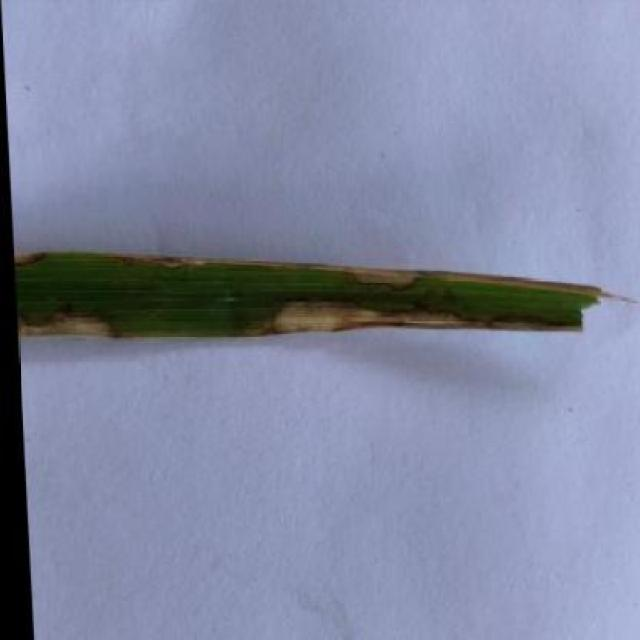Brown_Spot: (11, 245, 638, 349)
